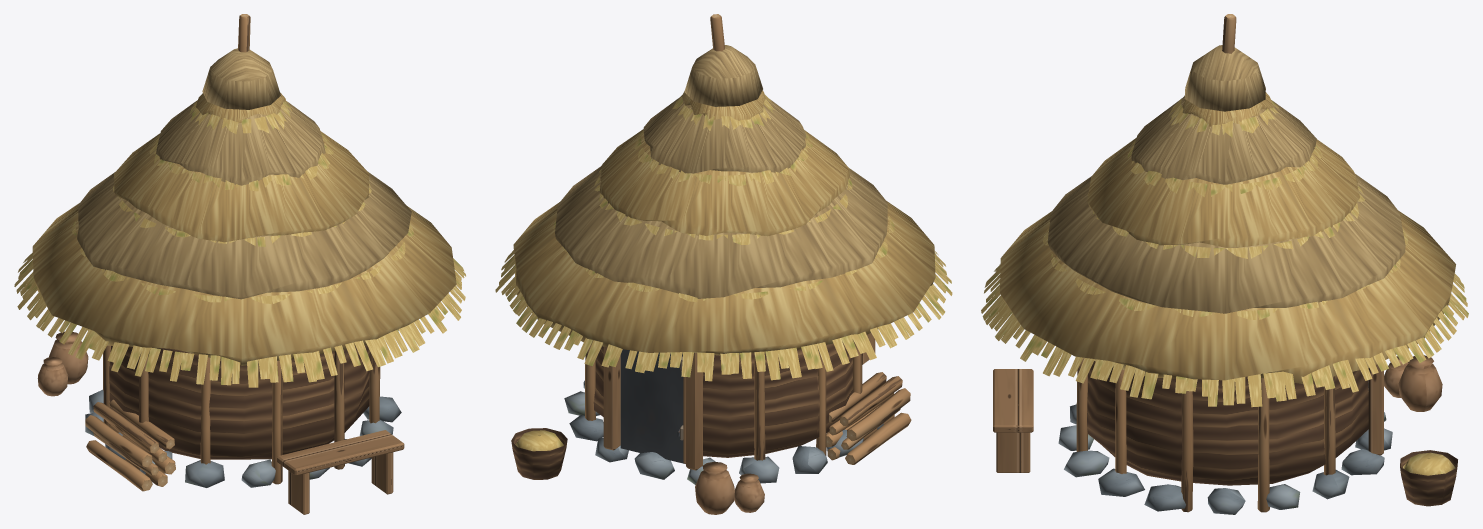
Rendered from bw_woven_shelter.fbx.
The picture shows the model from 3 angles, left to right: view 1: azimuth 30°, elevation 25°; view 2: azimuth 150°, elevation 25°; view 3: azimuth 270°, elevation 25°; orthographic projection. The views are drawn at different scales.
Visible parts, largest first — view 1: bw_woven_shelter; view 2: bw_woven_shelter; view 3: bw_woven_shelter.
Boxes of the visible parts, x1,y1,x2,y2 form: bw_woven_shelter: [14, 14, 465, 514]; bw_woven_shelter: [495, 14, 952, 514]; bw_woven_shelter: [981, 14, 1468, 514].
Size of the model in its own units: 2.86 by 2.84 by 2.88.
